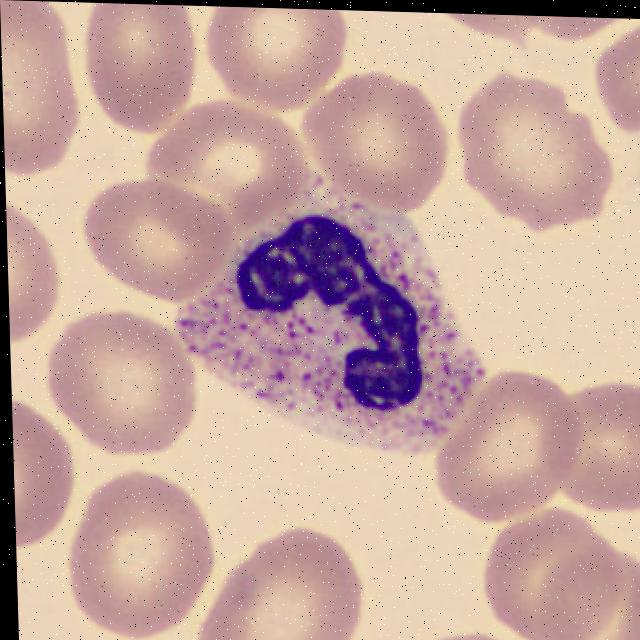neutrophil: (168, 181, 494, 466)
rbc: (458, 83, 614, 228), (83, 479, 214, 640), (309, 77, 450, 212), (449, 379, 579, 524), (93, 169, 227, 297), (210, 527, 361, 640), (61, 327, 194, 455), (493, 518, 627, 640), (84, 2, 200, 140), (166, 111, 299, 225), (210, 6, 345, 110), (0, 0, 73, 181), (544, 374, 640, 511), (12, 407, 69, 544), (6, 217, 58, 336), (580, 549, 640, 640), (586, 41, 640, 131), (447, 14, 556, 58), (538, 16, 628, 46), (435, 636, 523, 640)
